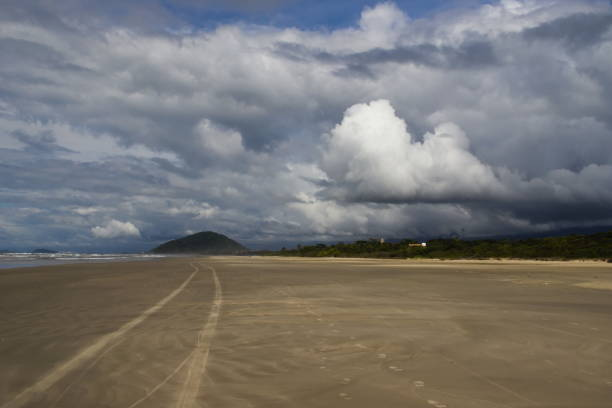vehicle_track: (0, 264, 198, 407), (177, 266, 224, 405)
